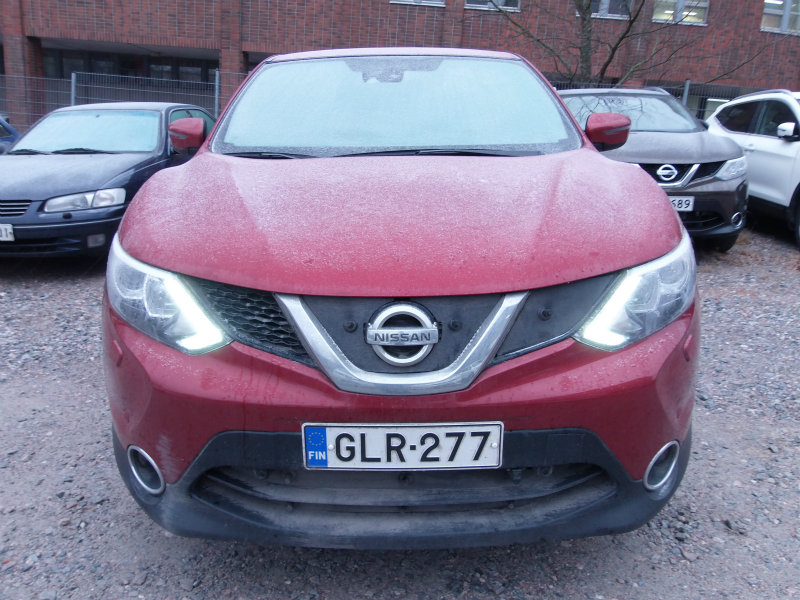license: (302, 420, 505, 475)
